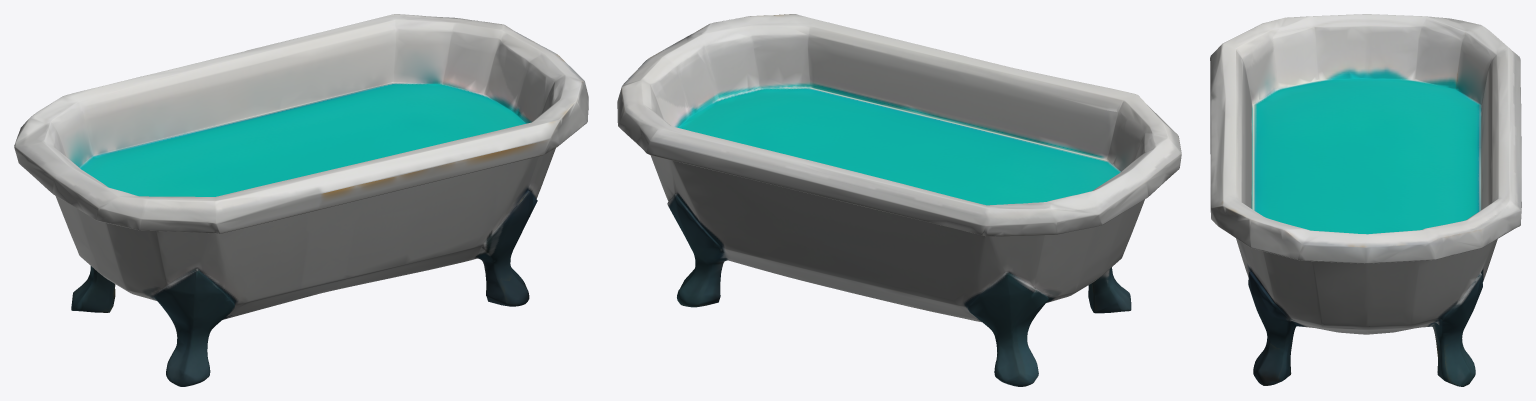
Rendered from bath.fbx.
The picture shows the model from 3 angles, left to right: view 1: azimuth 30°, elevation 25°; view 2: azimuth 150°, elevation 25°; view 3: azimuth 270°, elevation 25°; orthographic projection. The views are drawn at different scales.
Parts seen in each view (by area): view 1: node_0.001; view 2: node_0.001; view 3: node_0.001.
Boxes of the visible parts, x1=… form: node_0.001: x1=14, y1=14, x2=588, y2=386; node_0.001: x1=617, y1=14, x2=1181, y2=386; node_0.001: x1=1210, y1=14, x2=1521, y2=386.
Bounding box in the file's own units: 0.3929 × 0.1469 × 0.2204.
1 material, 1 textured.
